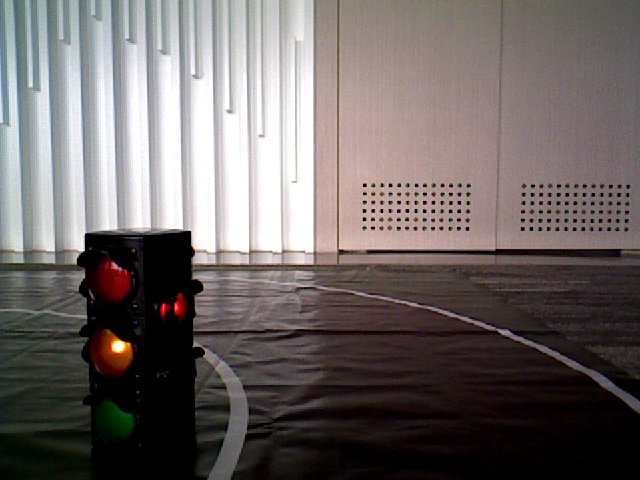yellow: (84, 238, 154, 452)
